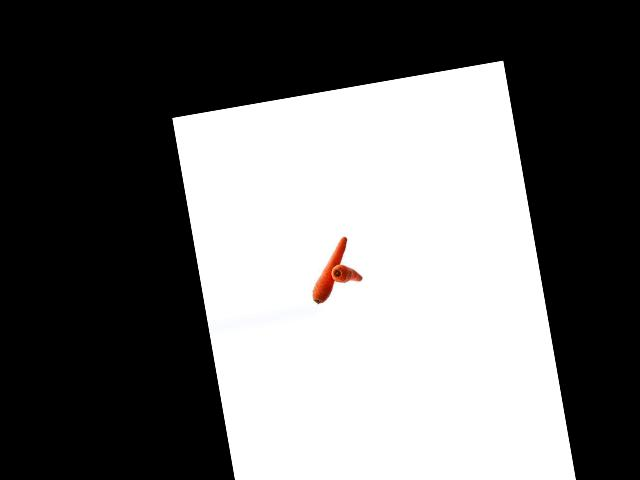carrot: (327, 260, 364, 289)
